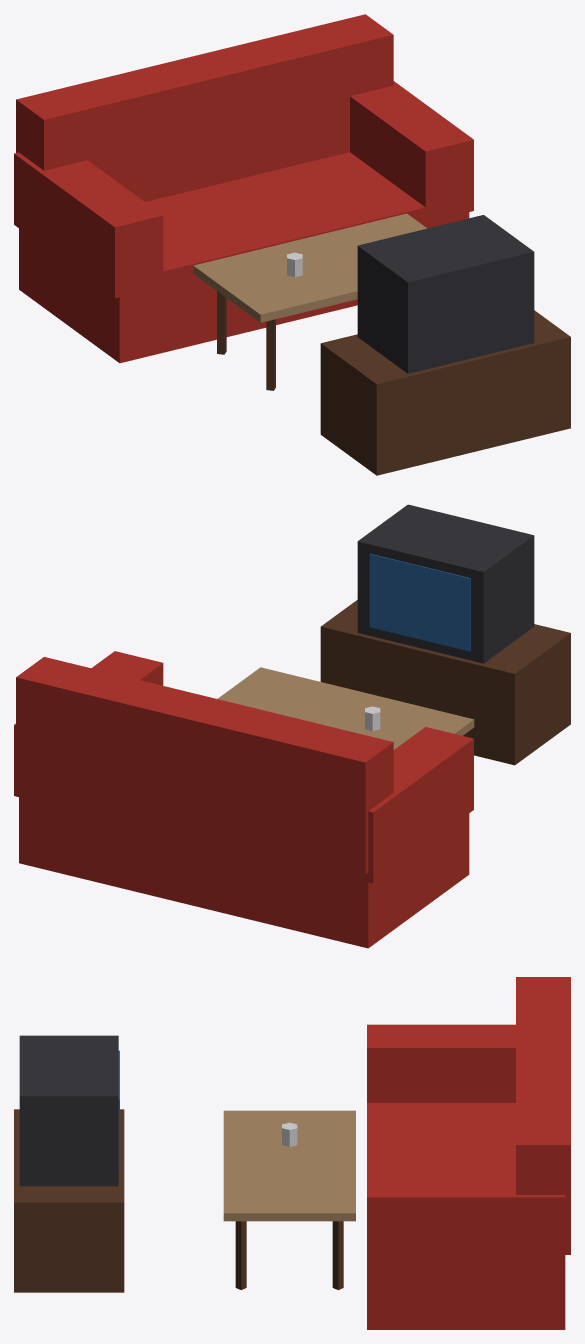
File: interior_flat_sofa_tv.glb
3 views of the same model, one above another, from view 1: azimuth 30°, elevation 25°; view 2: azimuth 150°, elevation 25°; view 3: azimuth 270°, elevation 25° (orthographic).
Parts seen in each view (by area): view 1: interior_flat_sofa_tv; view 2: interior_flat_sofa_tv; view 3: interior_flat_sofa_tv.
Boxes of the visible parts, x1,y1,x2,y2 form: interior_flat_sofa_tv: (14, 14, 570, 475); interior_flat_sofa_tv: (14, 504, 570, 948); interior_flat_sofa_tv: (14, 977, 570, 1329).
Bounding box in the file's own units: 1.85 × 0.925 × 2.53.
Materials: 1 (1 with a texture image).
